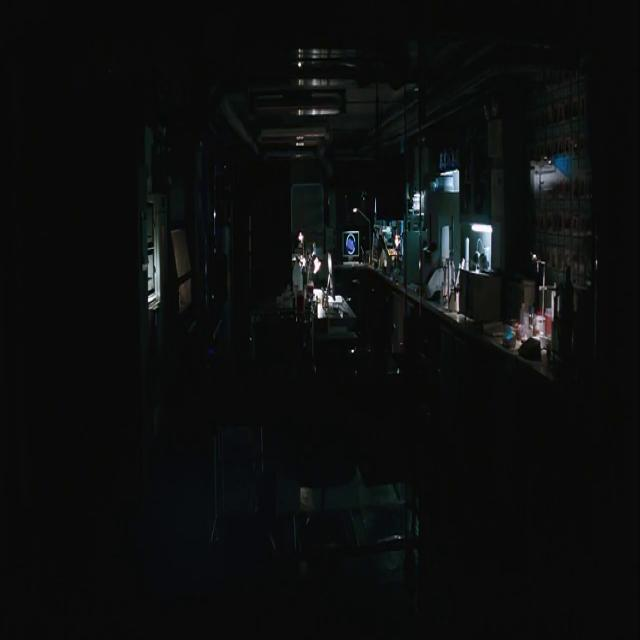Table: (266, 255, 357, 413)
chair: (202, 411, 282, 631), (168, 228, 208, 371)
